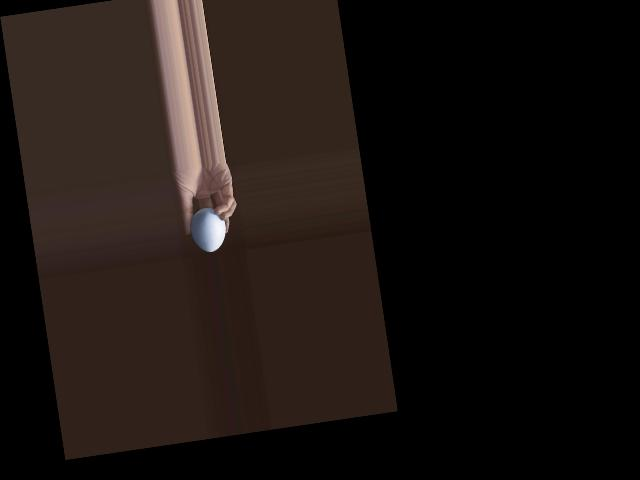egg: (188, 205, 229, 254)
